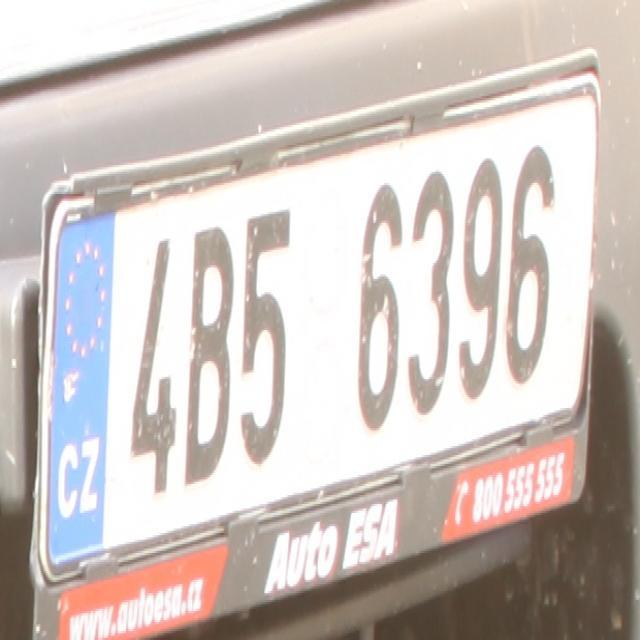3: (408, 169, 451, 426)
4: (129, 230, 177, 493)
5: (241, 205, 291, 473)
6: (352, 180, 404, 430), (506, 140, 554, 386)
9: (458, 154, 501, 404)
B: (182, 225, 232, 482)
